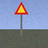sign: (14, 2, 28, 36)
